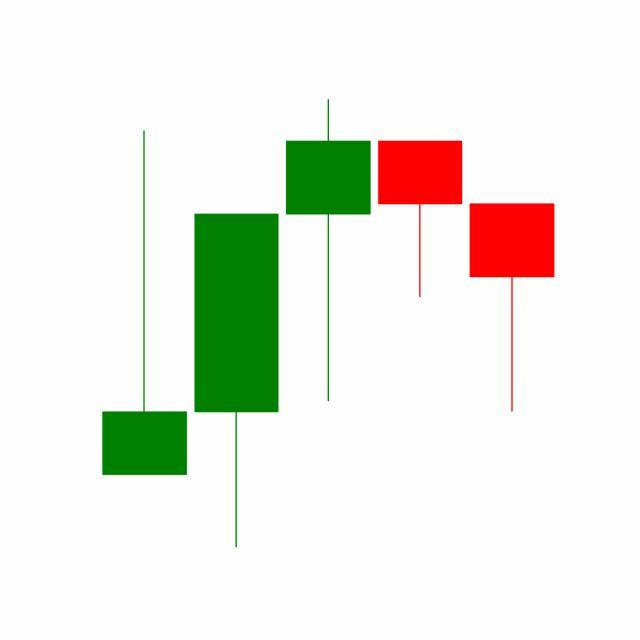Hammer: (466, 202, 559, 416)
